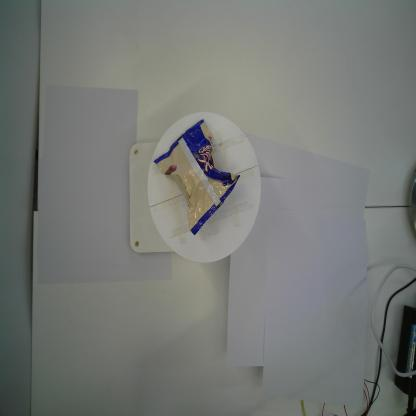Dessert: (152, 115, 240, 240)
